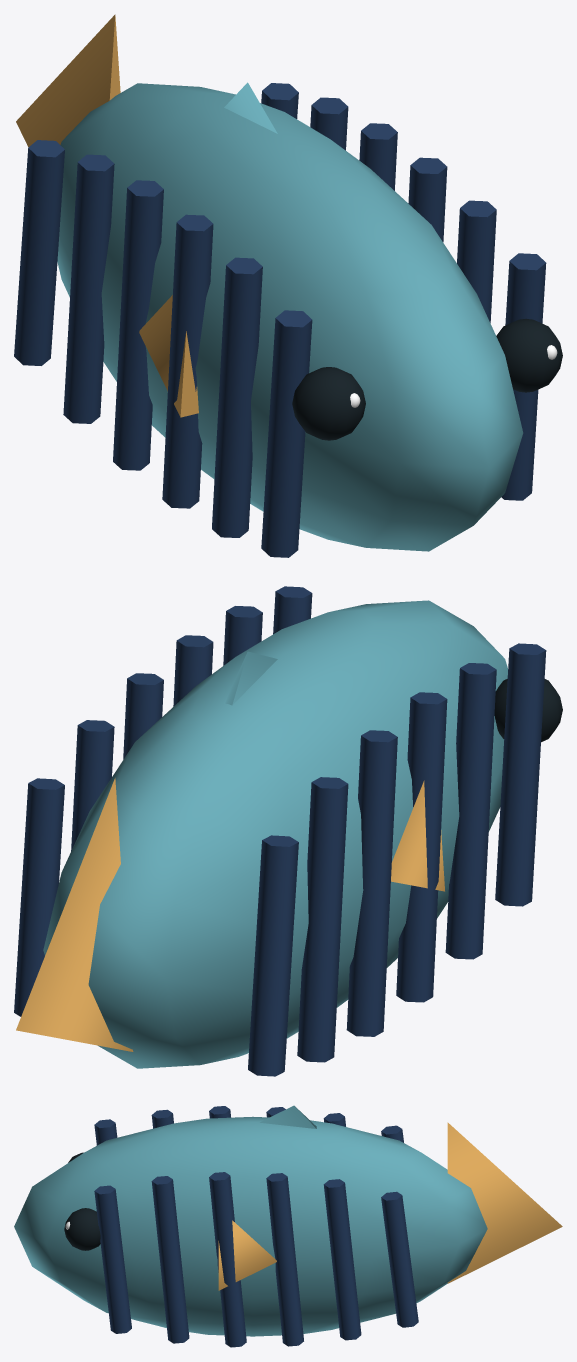
The model's file is cichlid.glb.
The picture shows the model from 3 angles, top to bottom: view 1: azimuth 30°, elevation 25°; view 2: azimuth 150°, elevation 25°; view 3: azimuth 270°, elevation 25°; orthographic projection. The views are drawn at different scales.
Visible parts, largest first — view 1: skin (×2), accent (×14), eye (×2); view 2: skin (×2), accent (×14), eye; view 3: skin (×2), accent (×10), eye.
Boxes of the visible parts, x1,y1,x2,y2 form: skin (×2): [57, 82, 523, 551]; accent (×14): [14, 14, 546, 557]; eye (×2): [292, 318, 562, 440]; skin (×2): [43, 600, 508, 1068]; accent (×14): [14, 586, 546, 1076]; eye: [494, 679, 562, 742]; skin (×2): [14, 1105, 487, 1336]; accent (×10): [94, 1109, 562, 1347]; eye: [64, 1208, 100, 1250].
Size of the model in its own units: 1.07 by 1.51 by 3.33.
